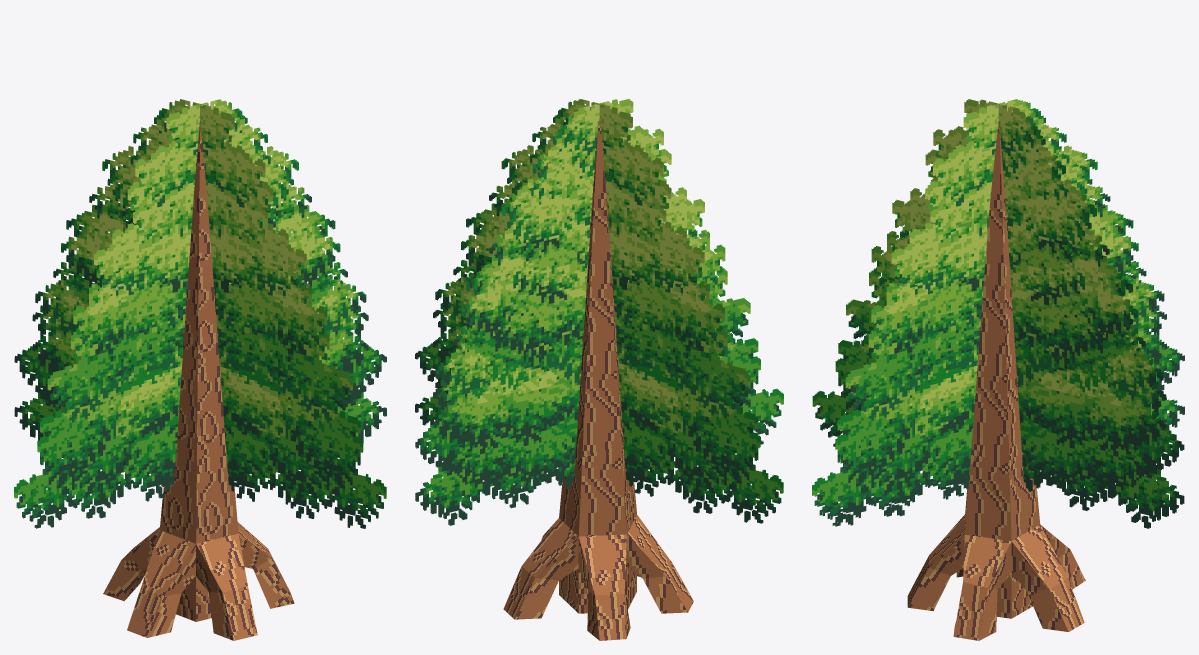
File: tree1.glb
The picture shows the model from 3 angles, left to right: view 1: azimuth 30°, elevation 25°; view 2: azimuth 150°, elevation 25°; view 3: azimuth 270°, elevation 25°; orthographic projection.
Visible parts, largest first — view 1: Plane, Plane.002, Circle, Plane.005, Plane.003; view 2: Plane.004, Plane.005, Circle, Plane.001, Plane; view 3: Plane.001, Plane.003, Circle, Plane.002, Plane.004.
Boxes of the visible parts, box(x1,y1,x2,y2) form: Plane: box(15, 100, 386, 528); Plane.002: box(14, 100, 386, 528); Circle: box(103, 104, 294, 640); Plane.005: box(14, 99, 385, 527); Plane.003: box(15, 99, 386, 527); Plane.004: box(416, 100, 783, 525); Plane.005: box(415, 99, 782, 523); Circle: box(503, 104, 693, 640); Plane.001: box(415, 98, 782, 524); Plane: box(416, 99, 783, 522); Plane.001: box(812, 100, 1182, 528); Plane.003: box(814, 100, 1184, 526); Circle: box(907, 104, 1085, 640); Plane.002: box(812, 99, 1182, 525); Plane.004: box(814, 99, 1184, 527).
Bounding box in the file's own units: 7.6 × 9.79 × 6.63.
Materials: 2 (2 with a texture image).
